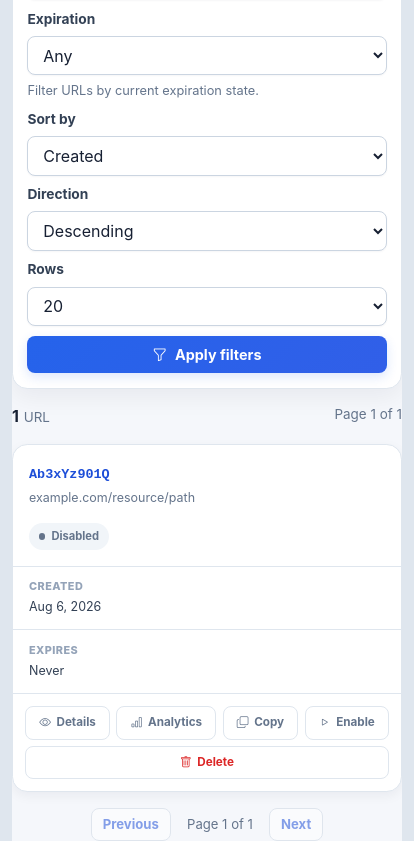
Test: UrlManagementPageComponent › enables a disabled URL without a full page reload
(page scrolled)
Click the button "Enable" at (347, 723), box [305,706,389,740]
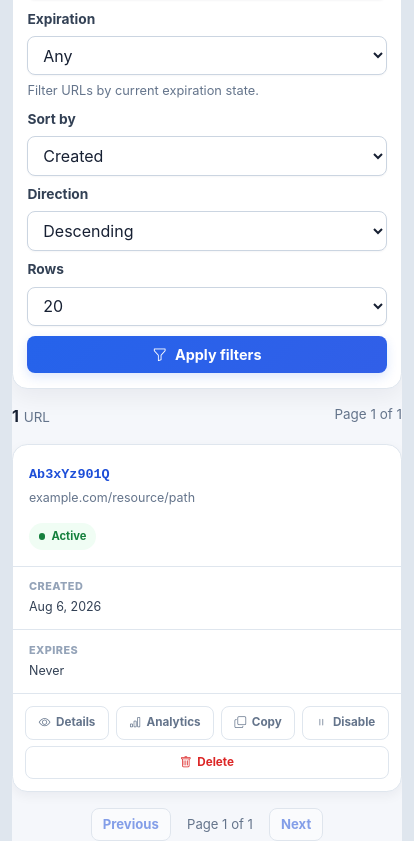
Check: the text "Active" is shown, box [29,523,96,550]
